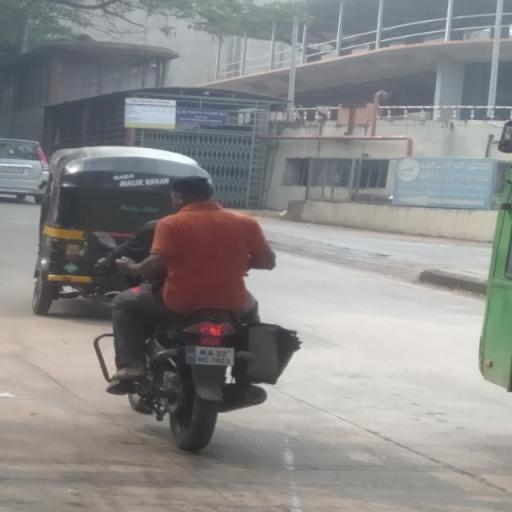bike: (84, 169, 304, 454)
numberplate: (190, 344, 238, 370)
withouthelmet: (170, 176, 214, 208)
